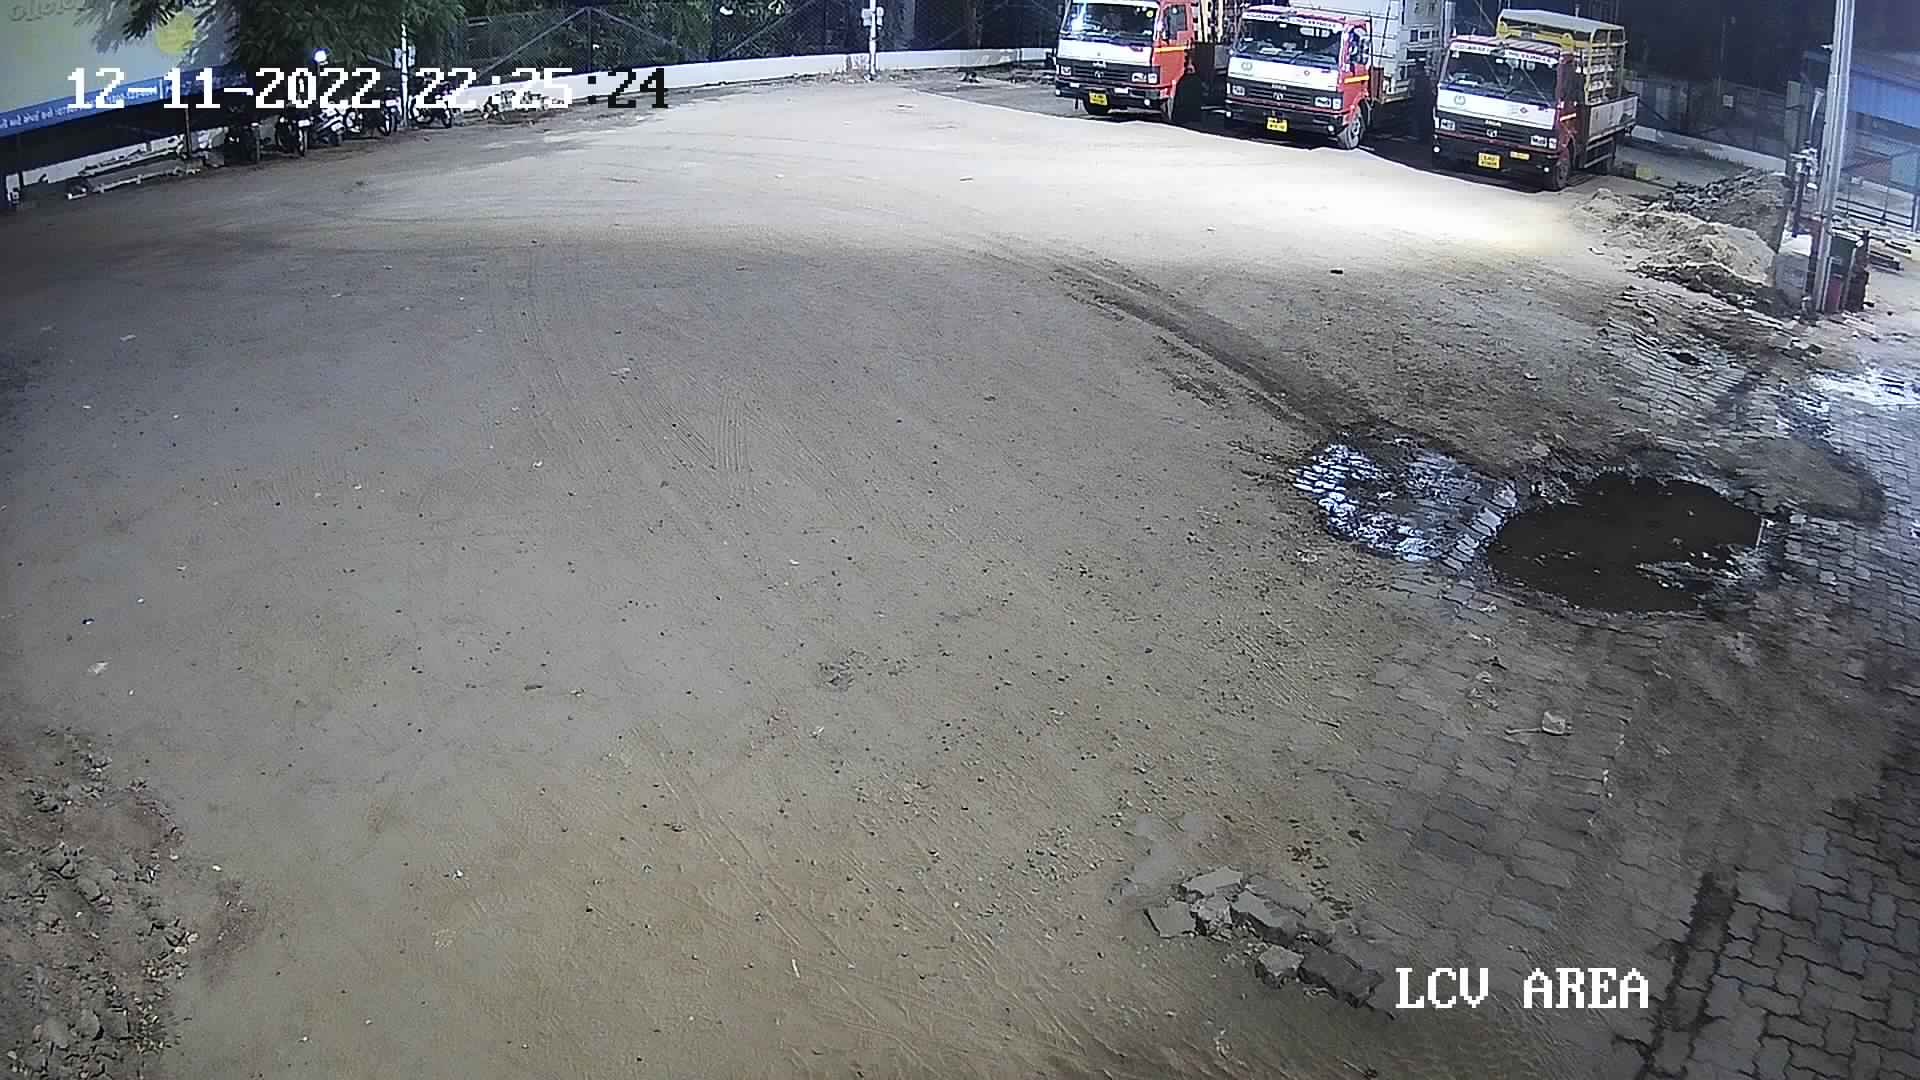HMV: (1414, 0, 1646, 194), (1211, 0, 1501, 153), (1038, 1, 1247, 127)
